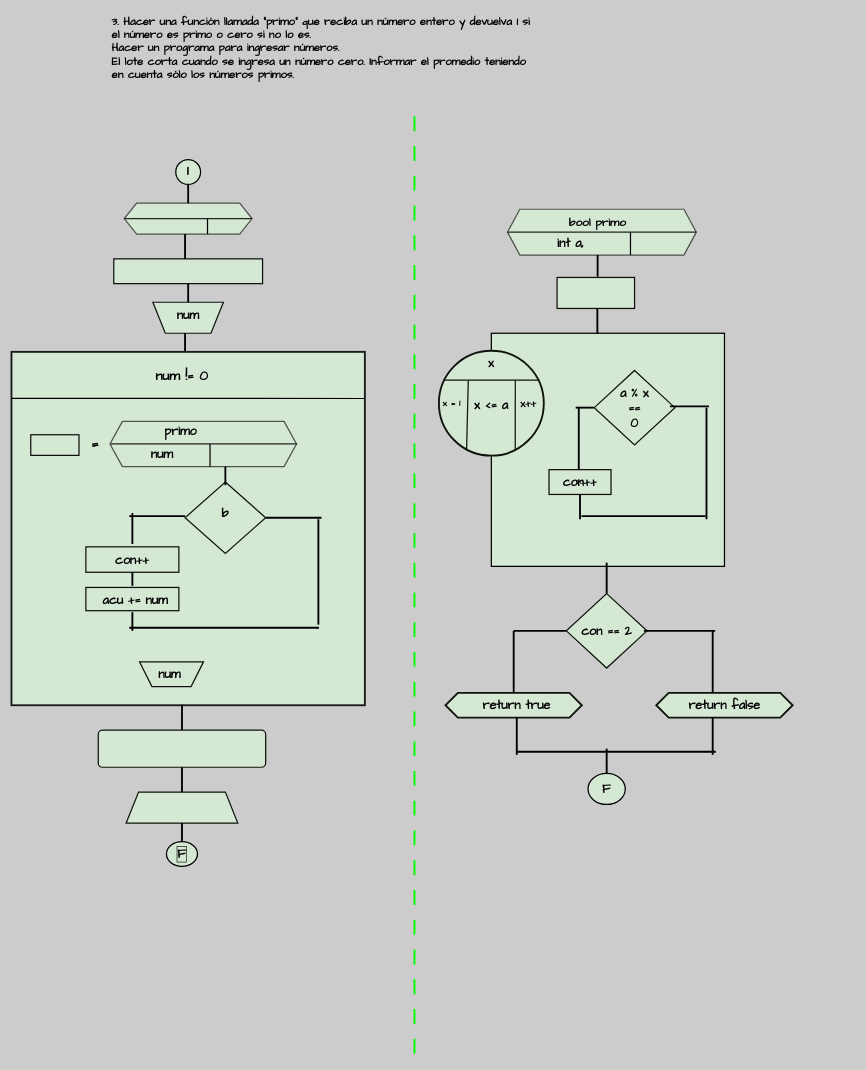
Some shapes in this 866 by 1070 pixel diagram are drawn without their labels. The shapes that lost their labels are listed below. From the top down, each one's centre as x and y in pixels, then its label:
At (187,218): "void main".
At (188,271): "con, acu, promedio".
At (595,293): "int con = 0".
At (54,445): "bool b".
At (181,748): "promedio = acu / con".
At (181,807): "promedio".
